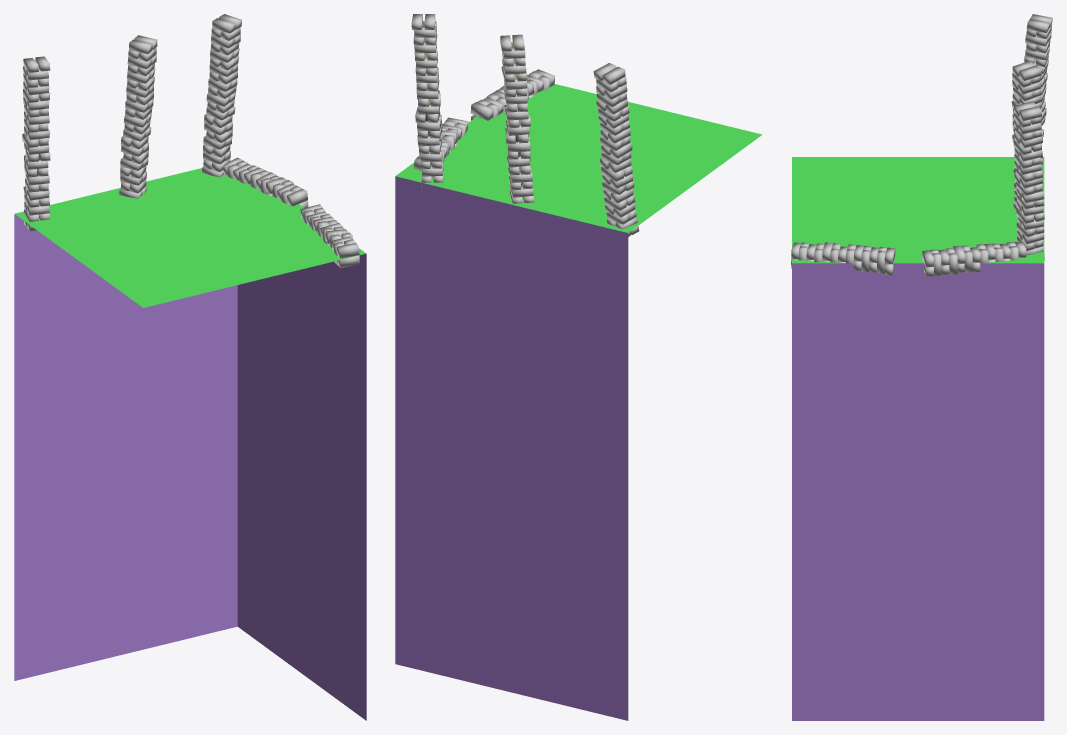
File: RoomCornder_1Lod2.fbx
3 renders of one model, left to right at view 1: azimuth 30°, elevation 25°; view 2: azimuth 150°, elevation 25°; view 3: azimuth 270°, elevation 25°, orthographic. The views are drawn at different scales.
Parts seen in each view (by area): view 1: RoomCornder_1.Lod2; view 2: RoomCornder_1.Lod2; view 3: RoomCornder_1.Lod2.
Part boxes in pixels (x1,y1,x2,y2): RoomCornder_1.Lod2: (14, 14, 366, 720); RoomCornder_1.Lod2: (395, 14, 762, 720); RoomCornder_1.Lod2: (791, 14, 1052, 720).
Bounding box in the file's own units: 419 × 1058 × 415.
